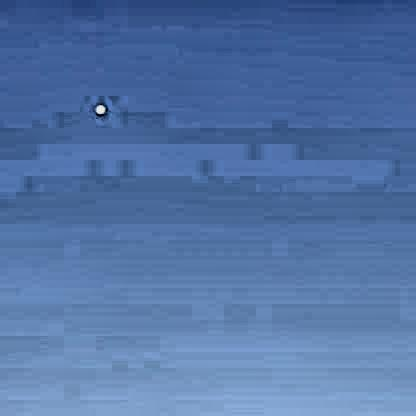golfball: (92, 100, 106, 114)
